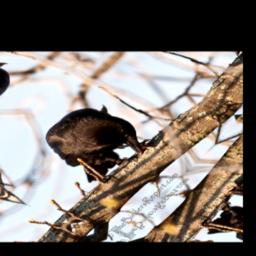Crow: (21, 94, 168, 191)
